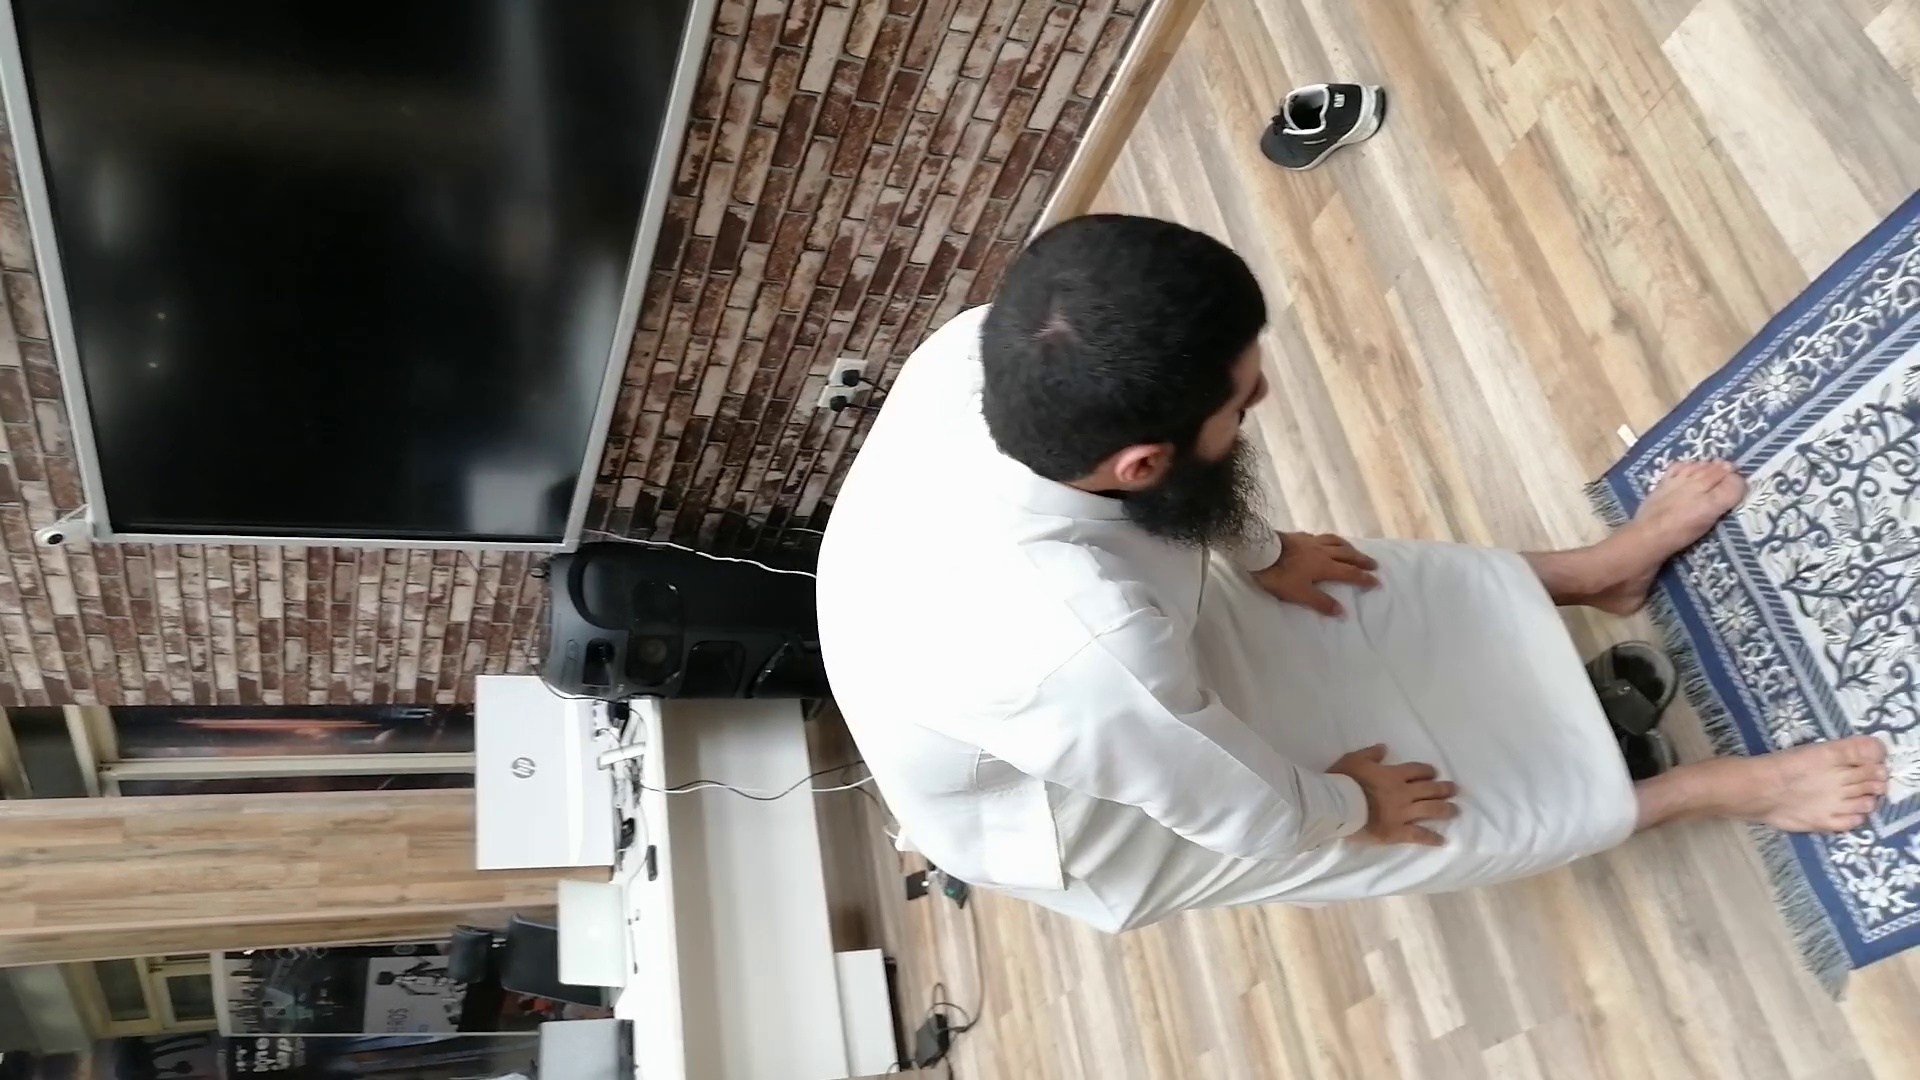ruku: (396, 208, 1919, 1034)
